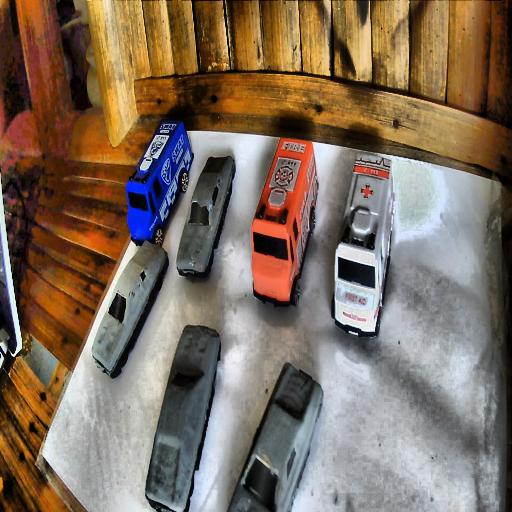ambulance: (332, 152, 395, 339)
fire_truck: (248, 138, 316, 308)
normal_car: (224, 362, 322, 510), (145, 325, 222, 511), (92, 239, 168, 379), (176, 155, 235, 281)
police car: (124, 118, 192, 248)
